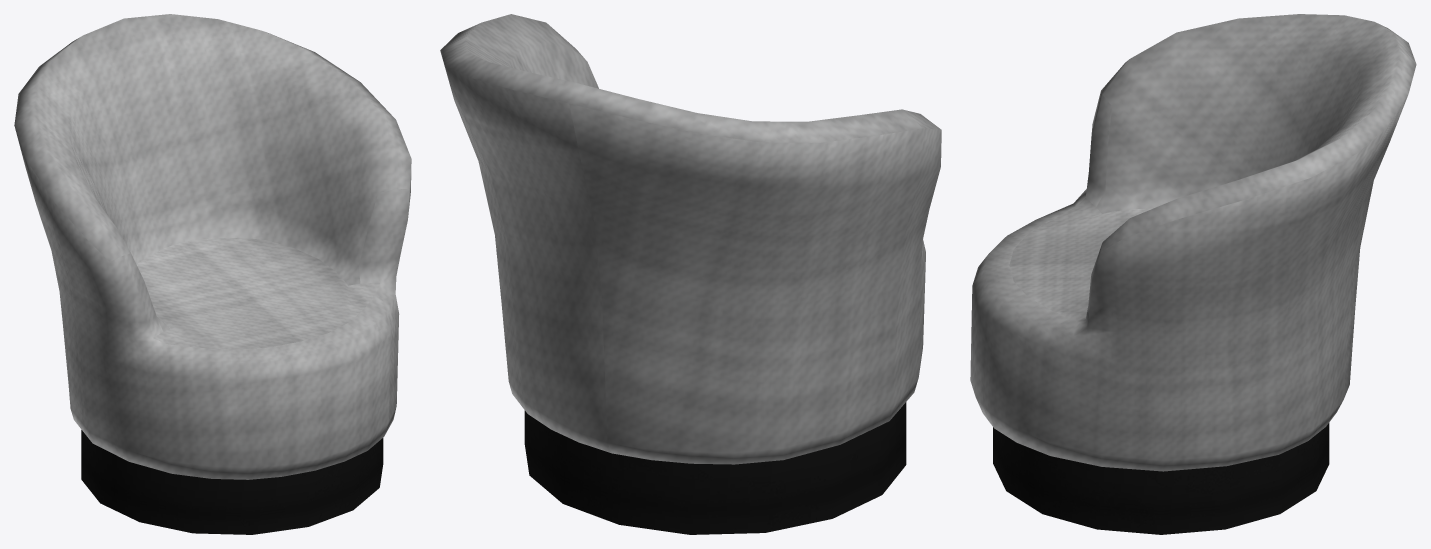
The model's file is Mesh_ArmChair.fbx.
The picture shows the model from 3 angles, left to right: view 1: azimuth 30°, elevation 25°; view 2: azimuth 150°, elevation 25°; view 3: azimuth 270°, elevation 25°; orthographic projection. The views are drawn at different scales.
Visible parts, largest first — view 1: Armchair; view 2: Armchair; view 3: Armchair.
Boxes of the visible parts, box(x1,y1,x2,y2) form: Armchair: box(14, 14, 411, 534); Armchair: box(440, 14, 941, 534); Armchair: box(970, 14, 1416, 534).
Size of the model in its own units: 1.25 by 1.31 by 1.29.
